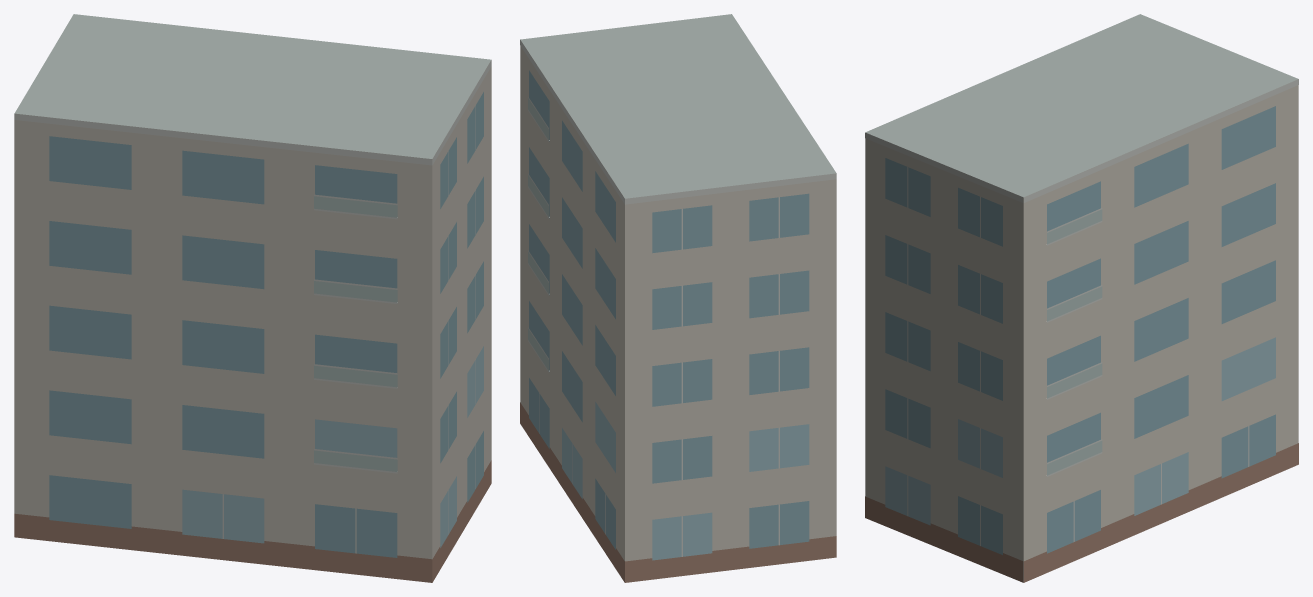
File: survey-upis-32881798.glb
The picture shows the model from 3 angles, left to right: view 1: azimuth 30°, elevation 25°; view 2: azimuth 150°, elevation 25°; view 3: azimuth 270°, elevation 25°; orthographic projection. The views are drawn at different scales.
Parts seen in each view (by area): view 1: survey-upis-32881798.tmp; view 2: survey-upis-32881798.tmp; view 3: survey-upis-32881798.tmp.
Boxes of the visible parts, x1=… form: survey-upis-32881798.tmp: x1=14, y1=14, x2=491, y2=582; survey-upis-32881798.tmp: x1=520, y1=14, x2=836, y2=582; survey-upis-32881798.tmp: x1=865, y1=14, x2=1298, y2=582.
Size of the model in its own units: 16.43 by 16.1 by 16.42.
